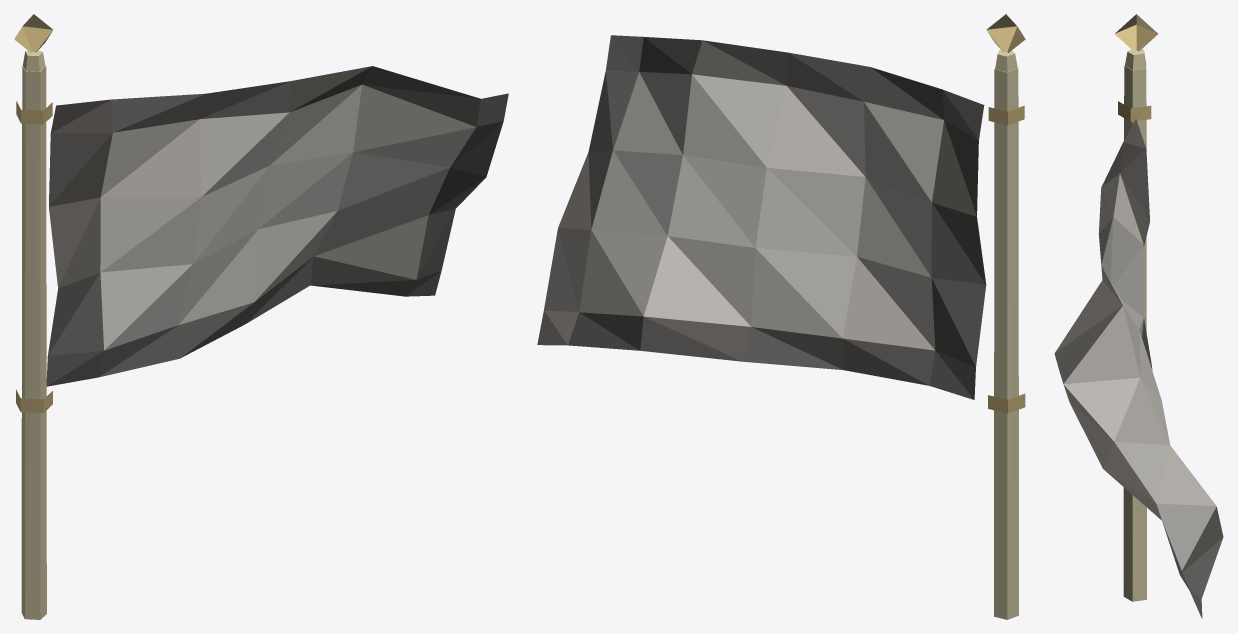
The model's file is flag.rect.suqi__pole.stick.mugun__masthead.glb.
3 renders of one model, left to right at view 1: azimuth 30°, elevation 25°; view 2: azimuth 150°, elevation 25°; view 3: azimuth 270°, elevation 25°, orthographic. The views are drawn at different scales.
Visible parts, largest first — view 1: flag.rect.suqi; view 2: flag.rect.suqi; view 3: flag.rect.suqi.
Part boxes in pixels (<box>): flag.rect.suqi: <box>14,14,508,619</box>; flag.rect.suqi: <box>537,14,1025,619</box>; flag.rect.suqi: <box>1054,14,1223,618</box>.
Size of the model in its own units: 1.65 by 2.08 by 0.5482.
